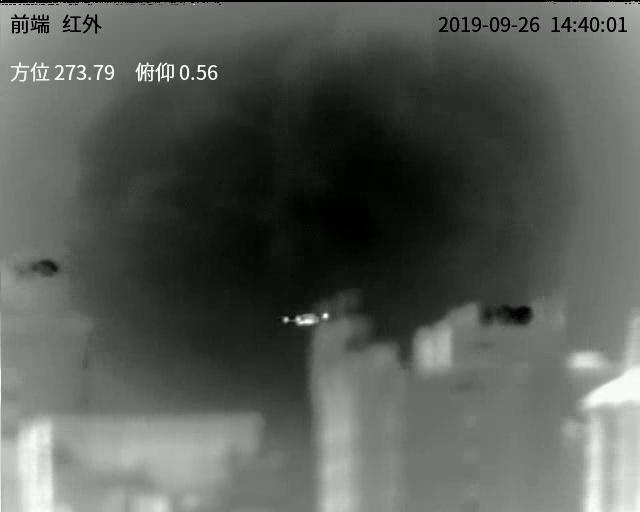DRONE: (280, 311, 332, 326)
